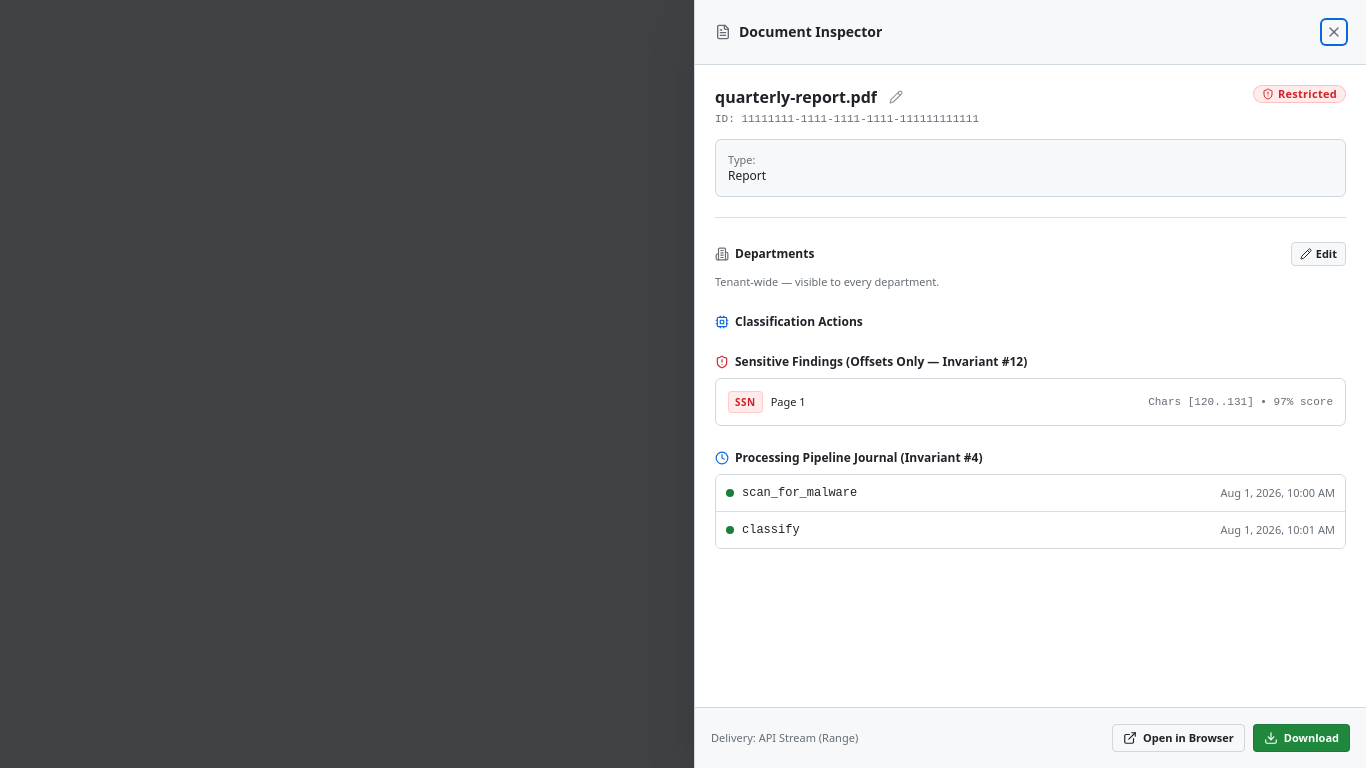
Scenario: DocumentDrawer — invariant #17: split content delivery › surfaces a denial from the content endpoint instead of failing silently
Click the button "Download" at point(1301, 738), box [1253,724,1350,752]
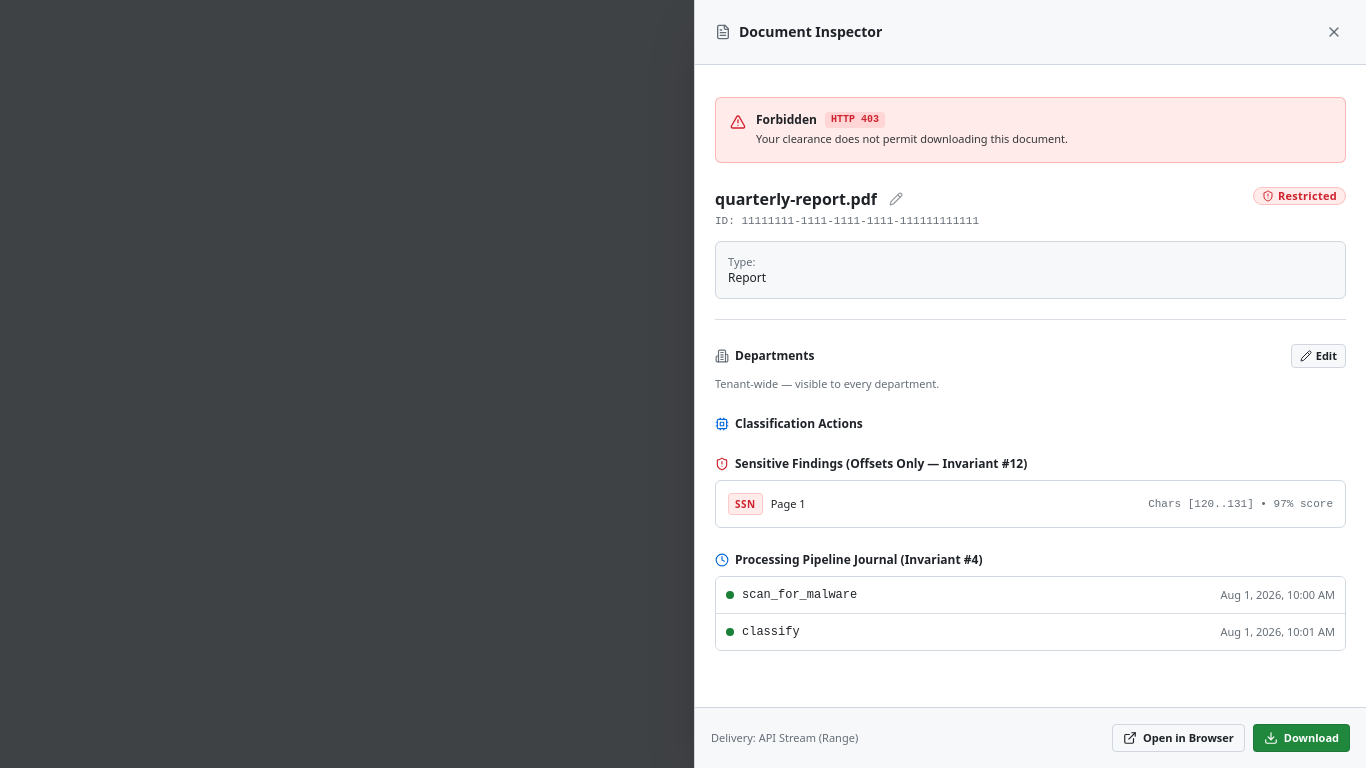
Expected: the text "Your clearance does not permit downloading this document." is shown, [756,131,1068,146]
